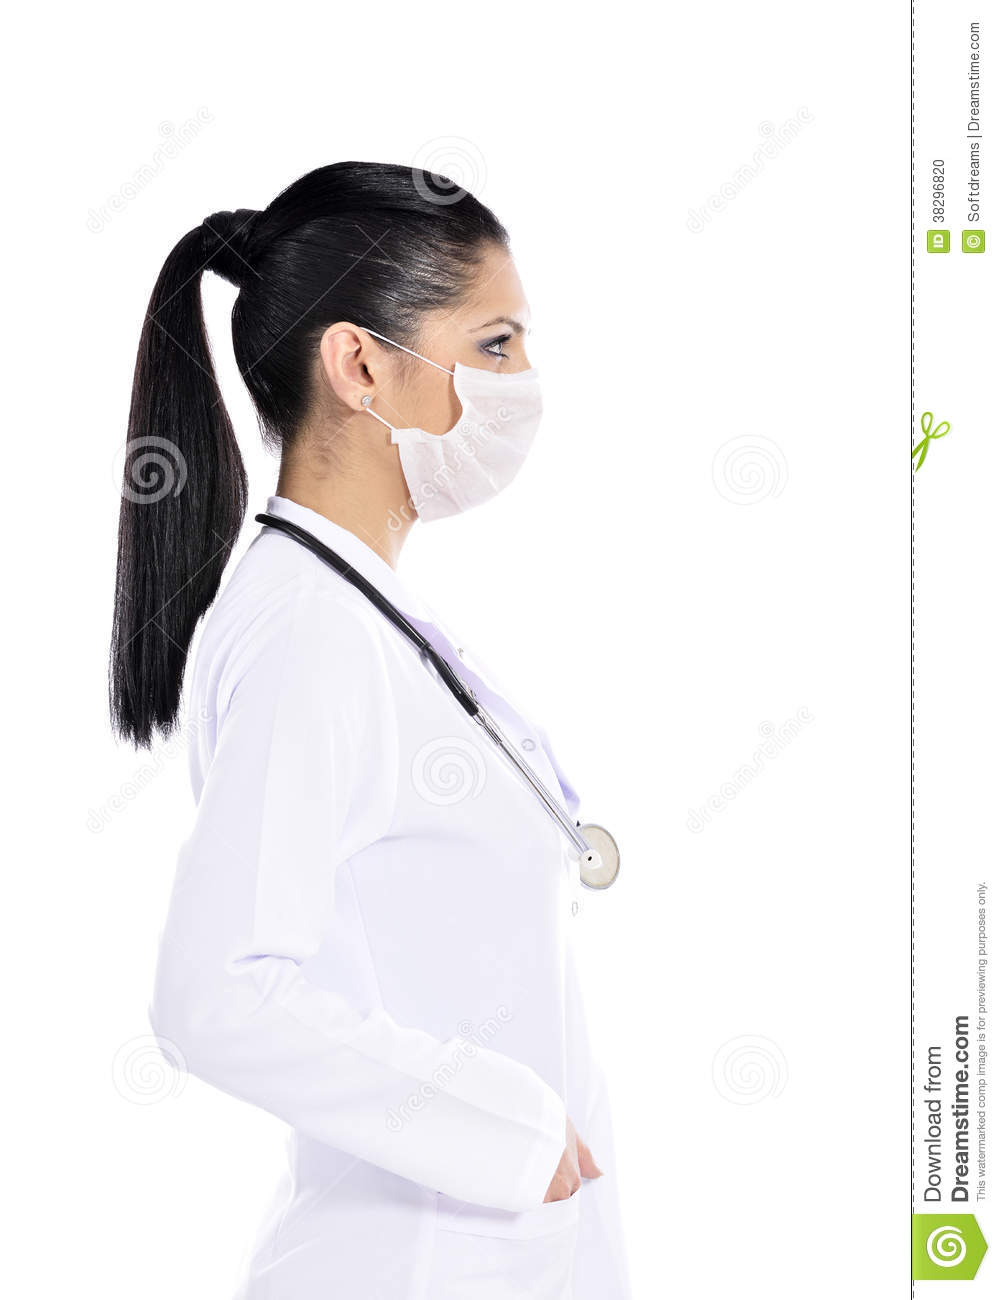mask: (394, 359, 542, 522)
